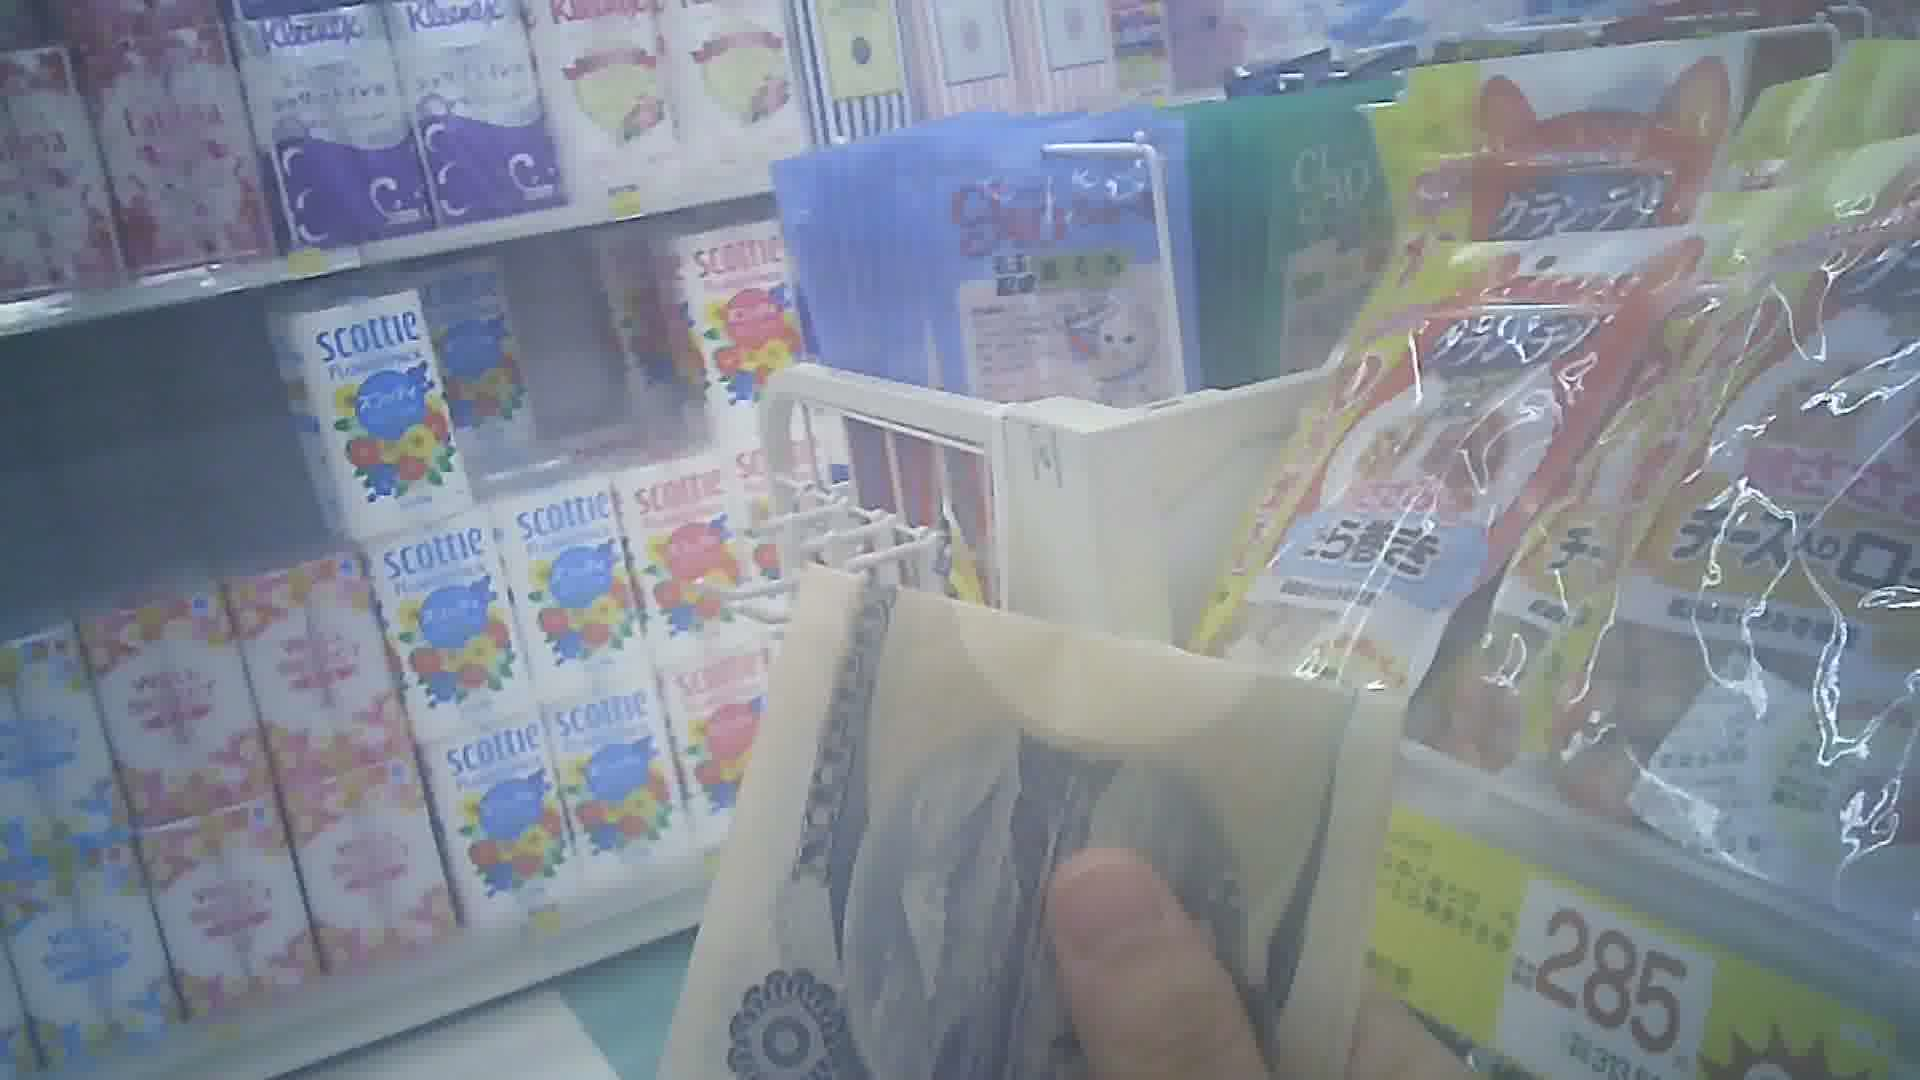1,000 Yen: (629, 589, 1350, 1079)
